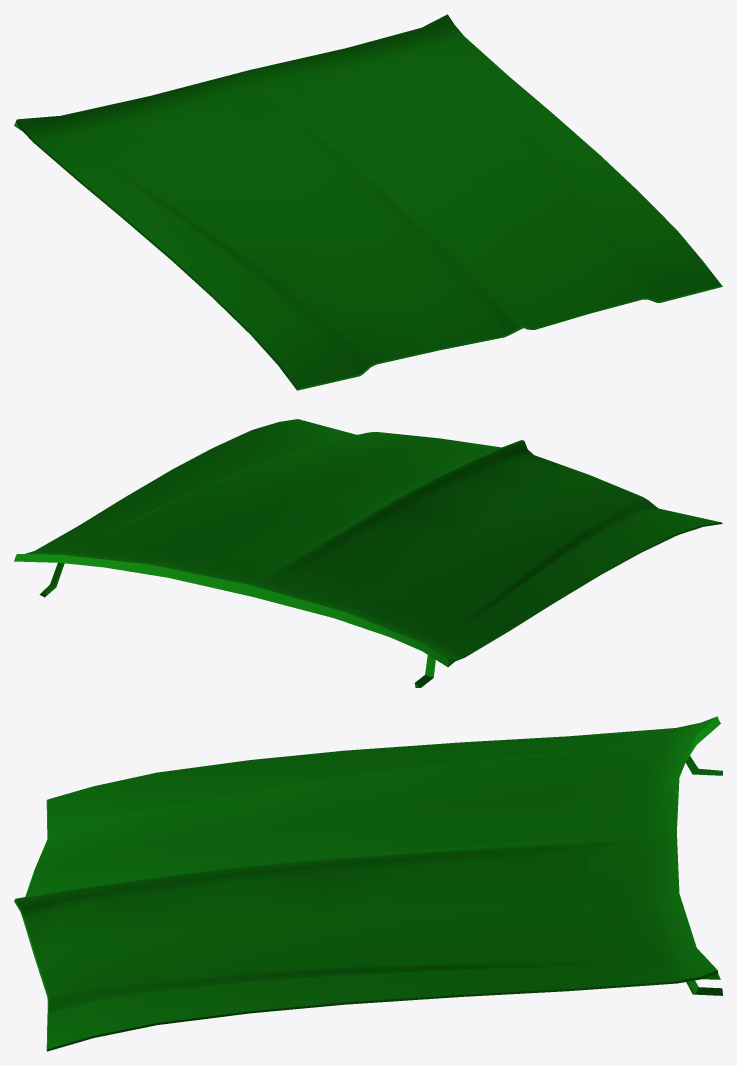
The model's file is Cofre.obj.
3 views of the same model, one above another, from view 1: azimuth 30°, elevation 25°; view 2: azimuth 150°, elevation 25°; view 3: azimuth 270°, elevation 25° (orthographic). The views are drawn at different scales.
Visible parts, largest first — view 1: bonnet_ok; view 2: bonnet_ok; view 3: bonnet_ok.
Part boxes in pixels (x1,y1,x2,y2): bonnet_ok: (14,14,722,390); bonnet_ok: (14,419,722,687); bonnet_ok: (14,716,722,1051).
Bounding box in the file's own units: 12.74 × 2.22 × 14.92.
